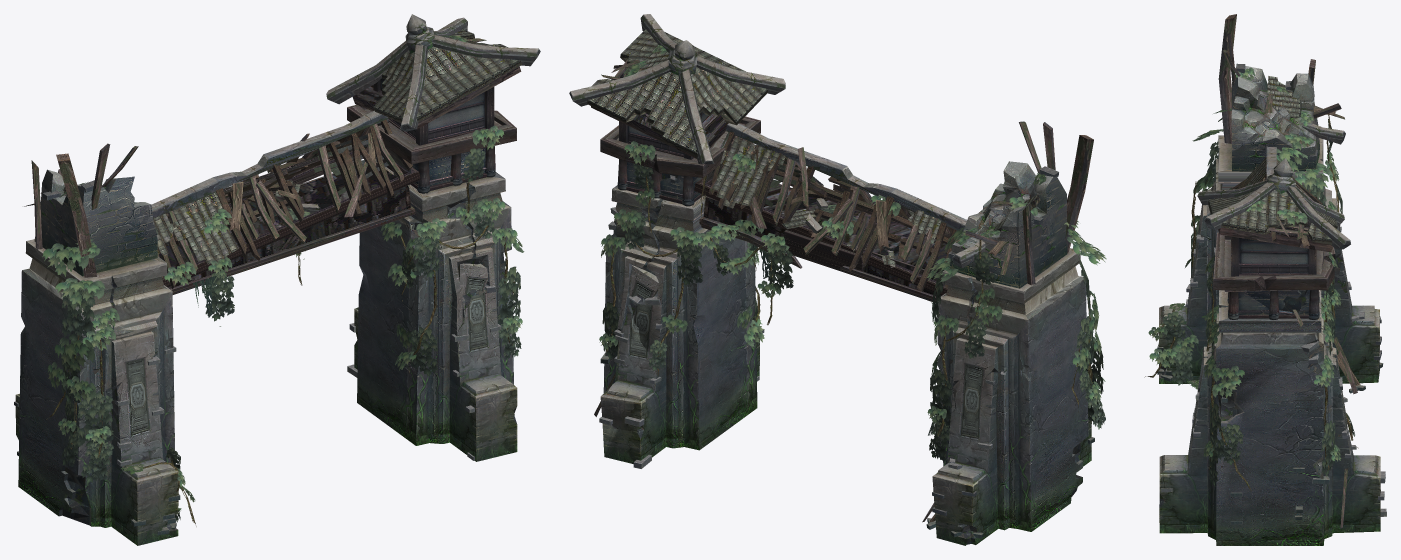
File: Ruins_4.FBX
3 renders of one model, left to right at view 1: azimuth 30°, elevation 25°; view 2: azimuth 150°, elevation 25°; view 3: azimuth 270°, elevation 25°, orthographic. The views are drawn at different scales.
Visible parts, largest first — view 1: Ruins_4_A, Ruins_4_B; view 2: Ruins_4_A, Ruins_4_B; view 3: Ruins_4_A, Ruins_4_B.
Part boxes in pixels (x1,y1,x2,y2): Ruins_4_A: (14, 14, 540, 545); Ruins_4_B: (42, 35, 524, 526); Ruins_4_A: (569, 14, 1094, 545); Ruins_4_B: (599, 45, 1106, 460); Ruins_4_A: (1157, 14, 1386, 545); Ruins_4_B: (1144, 67, 1358, 491).
Size of the model in its own units: 456 by 355 by 218.
